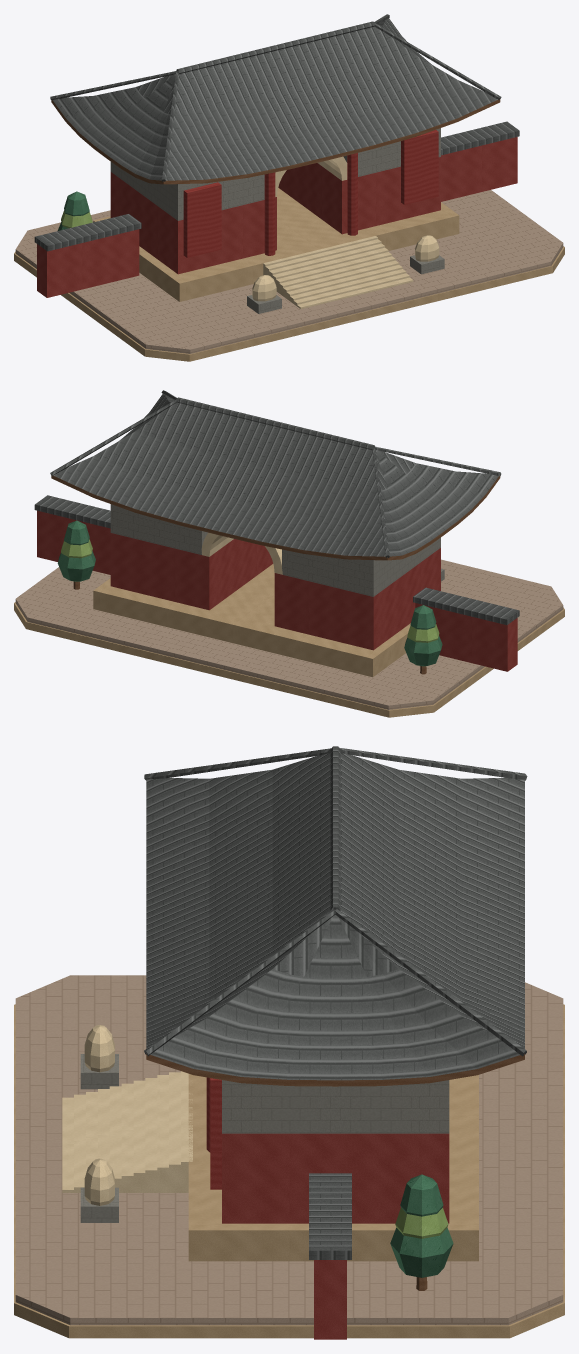
The model's file is shaolin.glb.
3 renders of one model, top to bottom at view 1: azimuth 30°, elevation 25°; view 2: azimuth 150°, elevation 25°; view 3: azimuth 270°, elevation 25°, orthographic. The views are drawn at different scales.
Parts seen in each view (by area): view 1: 少林寺; view 2: 少林寺; view 3: 少林寺.
Part boxes in pixels (x1,y1,x2,y2): 少林寺: [14, 14, 564, 361]; 少林寺: [14, 390, 564, 717]; 少林寺: [14, 746, 564, 1339].
Bounding box in the file's own units: 10.74 × 4.38 × 6.45.
Materials: 13 (13 with a texture image).
